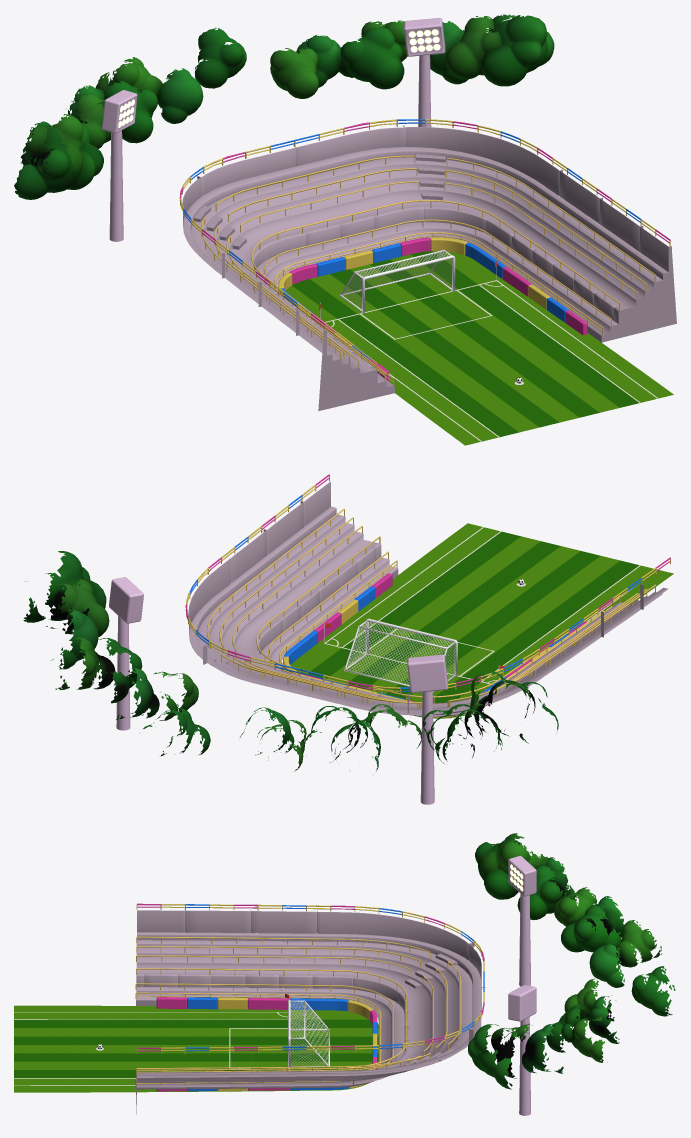
File: Stadium_Recon_web.glb
3 views of the same model, one above another, from view 1: azimuth 30°, elevation 25°; view 2: azimuth 150°, elevation 25°; view 3: azimuth 270°, elevation 25° (orthographic). The views are drawn at different scales.
Visible parts, largest first — view 1: STATIC_Concrete, PITCH_Grass, STATIC_Trees, STATIC_Railings, FLOOD_Light_L, FLOOD_Light_R, STATIC_Markings, GOAL_Net, GOAL_Frame; view 2: PITCH_Grass, STATIC_Concrete, STATIC_Trees, STATIC_Railings, FLOOD_Light_L, GOAL_Net, FLOOD_Light_R, STATIC_Markings, GOAL_Frame; view 3: STATIC_Concrete, PITCH_Grass, STATIC_Trees, STATIC_Railings, FLOOD_Light_L, FLOOD_Light_R, GOAL_Net, STATIC_Markings, ADV_Panel_W04, GOAL_Frame, ADV_Panel_W05.
Part boxes in pixels (box(x1,y1,x2,y2)): STATIC_Concrete: box(182, 125, 676, 410); PITCH_Grass: box(277, 251, 673, 445); STATIC_Trees: box(14, 14, 554, 199); STATIC_Railings: box(179, 119, 670, 386); FLOOD_Light_L: box(102, 90, 137, 241); FLOOD_Light_R: box(404, 18, 445, 127); STATIC_Markings: box(325, 280, 657, 441); GOAL_Net: box(342, 252, 451, 308); GOAL_Frame: box(339, 249, 455, 313); PITCH_Grass: box(290, 523, 673, 718); STATIC_Concrete: box(188, 481, 667, 716); STATIC_Trees: box(23, 551, 558, 771); STATIC_Railings: box(185, 474, 670, 708); FLOOD_Light_L: box(407, 654, 447, 804); GOAL_Net: box(346, 622, 454, 684); FLOOD_Light_R: box(109, 577, 143, 730); STATIC_Markings: box(324, 527, 657, 684); GOAL_Frame: box(344, 618, 457, 692); STATIC_Concrete: box(136, 909, 486, 1114); PITCH_Grass: box(14, 1005, 378, 1092); STATIC_Trees: box(468, 833, 675, 1089); STATIC_Railings: box(135, 903, 484, 1086); FLOOD_Light_L: box(508, 855, 536, 986); FLOOD_Light_R: box(508, 985, 536, 1115); GOAL_Net: box(290, 1002, 328, 1066); STATIC_Markings: box(14, 1012, 287, 1085); ADV_Panel_W04: box(290, 998, 348, 1011); GOAL_Frame: box(288, 1000, 329, 1068); ADV_Panel_W05: box(247, 998, 290, 1009).
Size of what is drawn, in the model's own units: 35.12 by 8.95 by 43.41.
37 materials, 2 textured.
